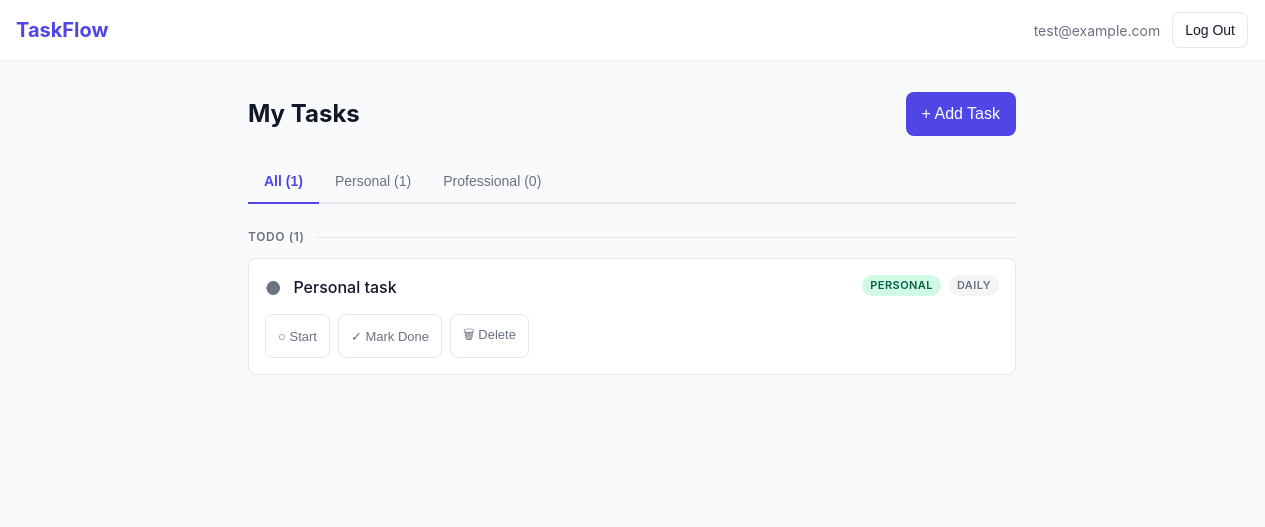
it: Dashboard — category filter › shows empty state when filter has no matching tasks
Check: the text "Personal task" is shown, box [294,277,397,297]
Click the tab "Professional (0)" at (492, 182), box [427,160,557,204]
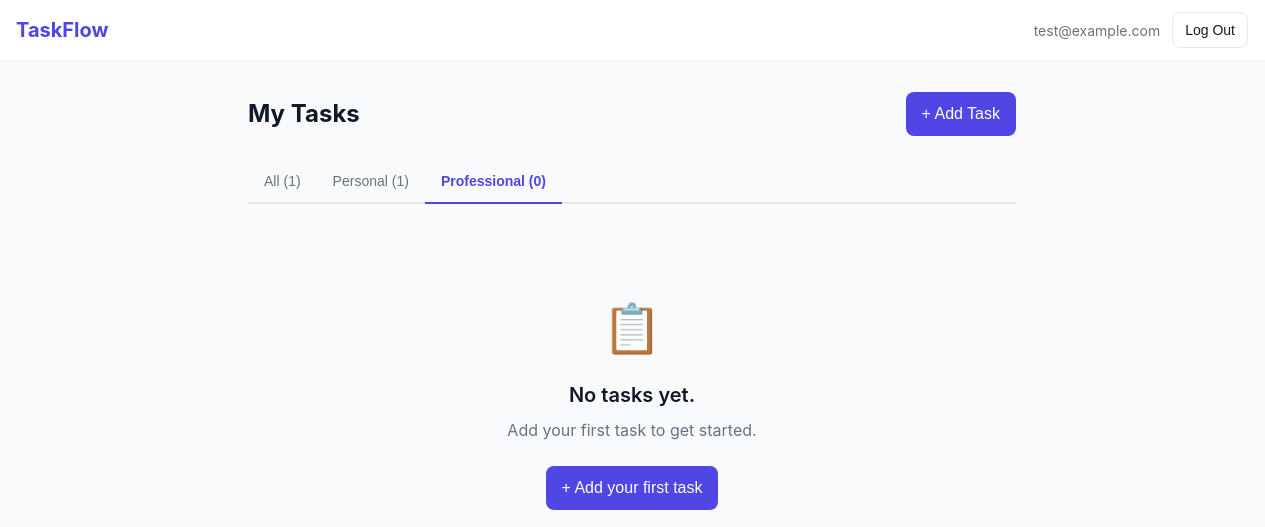
Check: the text "No tasks yet." is shown, box [569,383,695,407]
